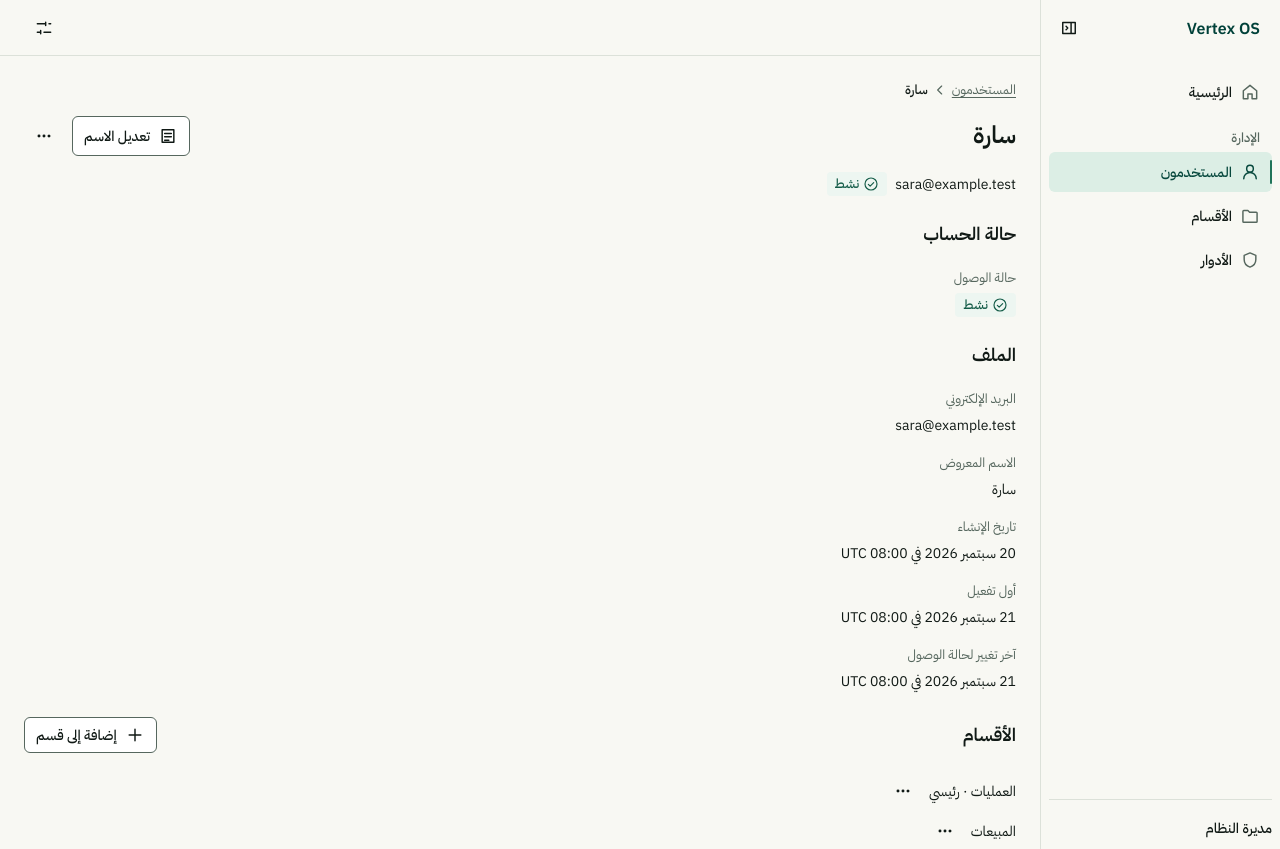
it: the user detail › explains a refusal in the dialog and keeps the reason; a rule refusal needs no reload
Click the button named "إجراءات المستخدم". click: [44, 136]
box: [24,116,64,156]
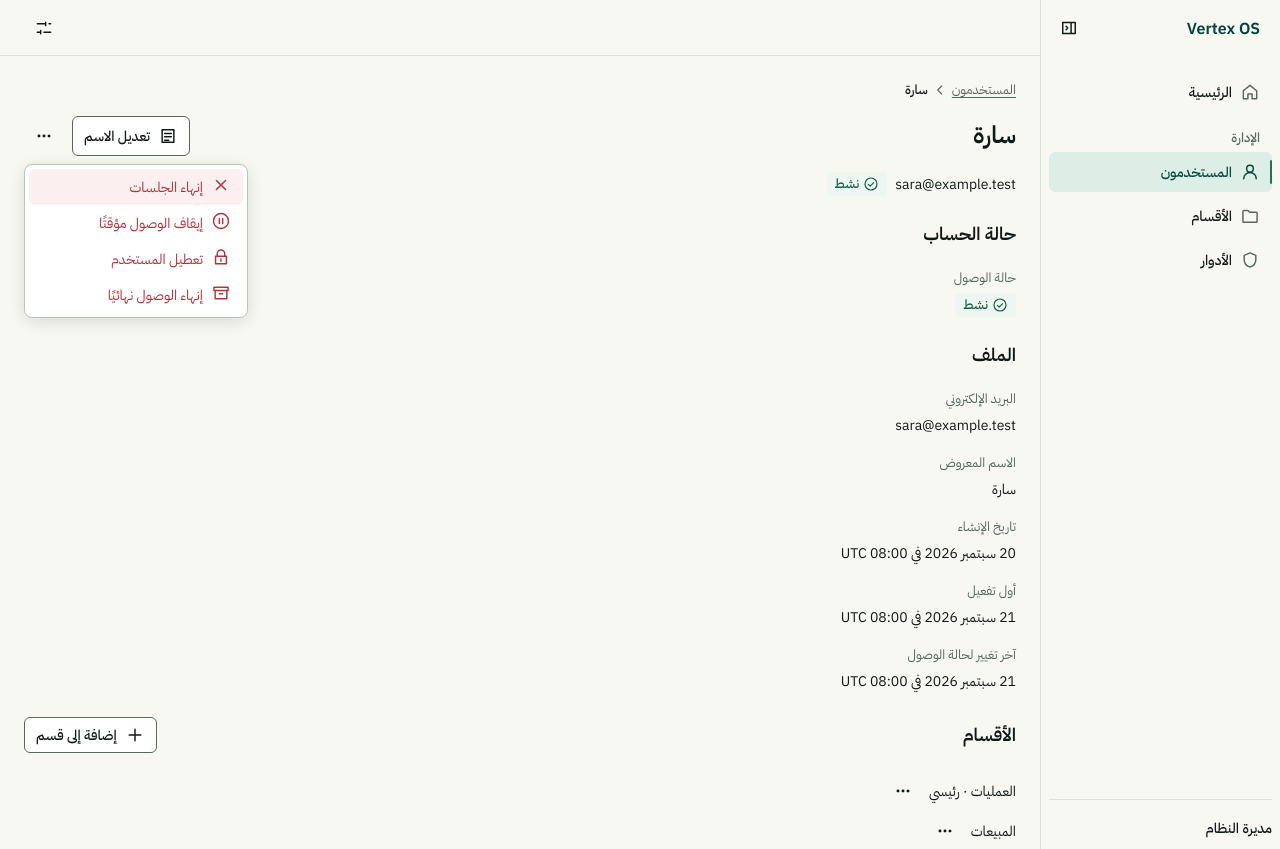
Click the menu item "تعطيل المستخدم". click: [171, 258]
box: [111,247,231,268]
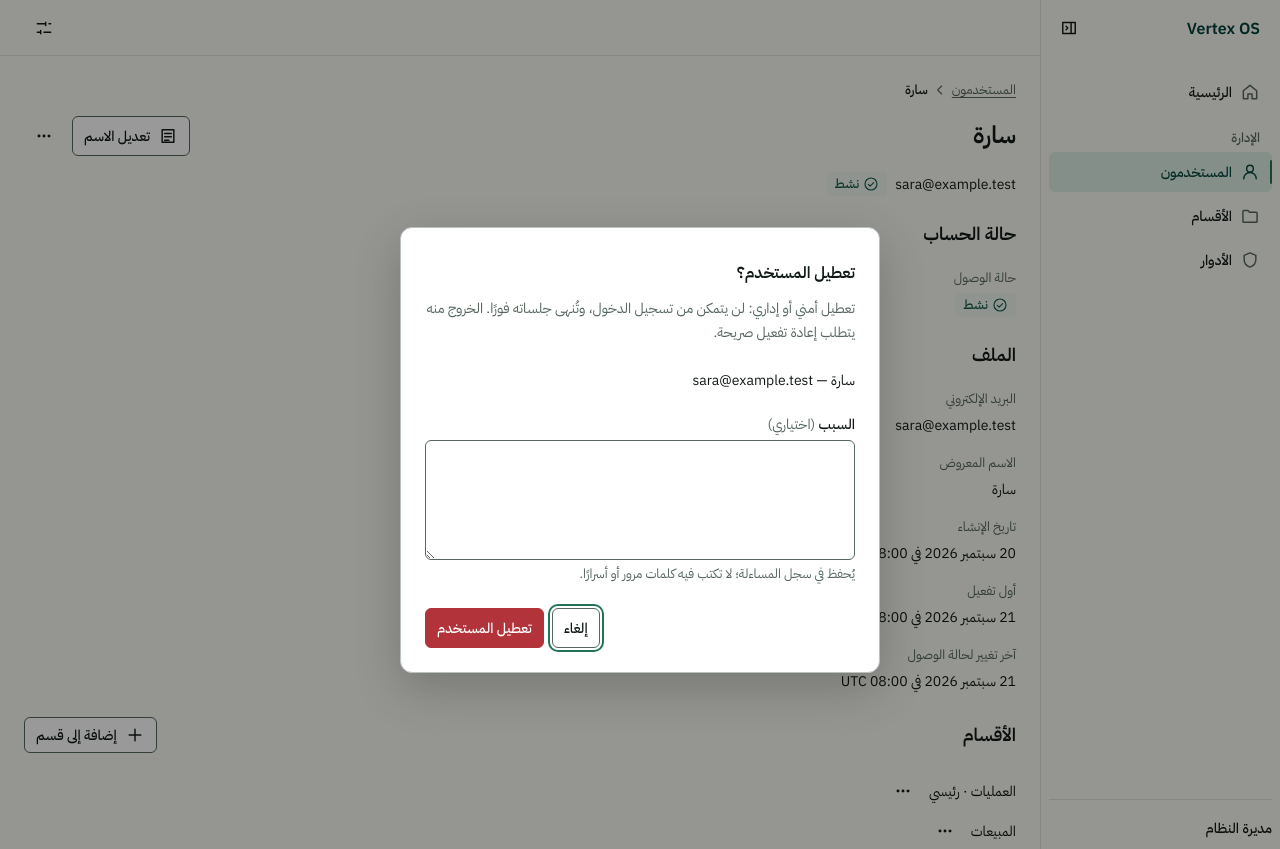
Type "تحقيق" into the text box labelled "السبب (اختياري)". click: [640, 500]
box: [425,440,855,560]
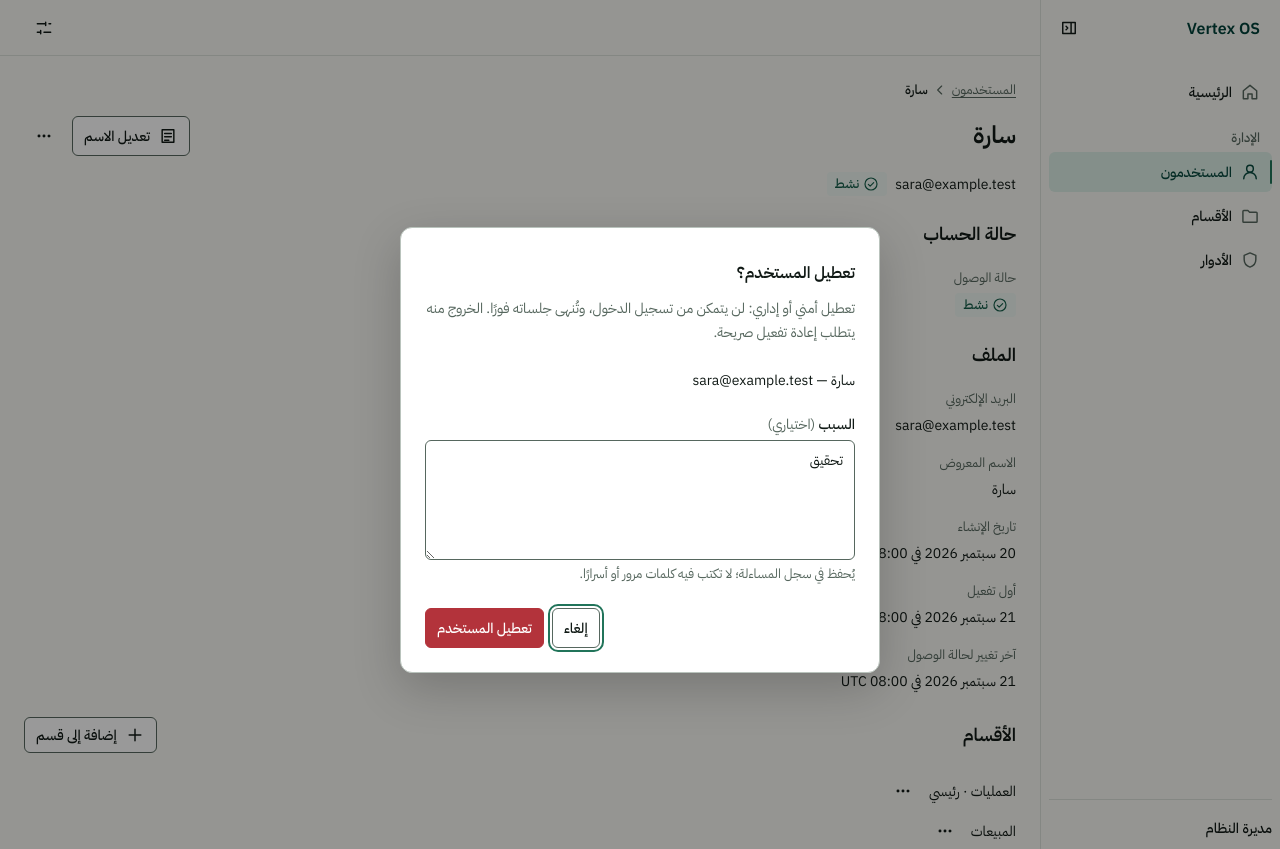
Click the button "تعطيل المستخدم". click: [484, 628]
box: [425,608,544,648]
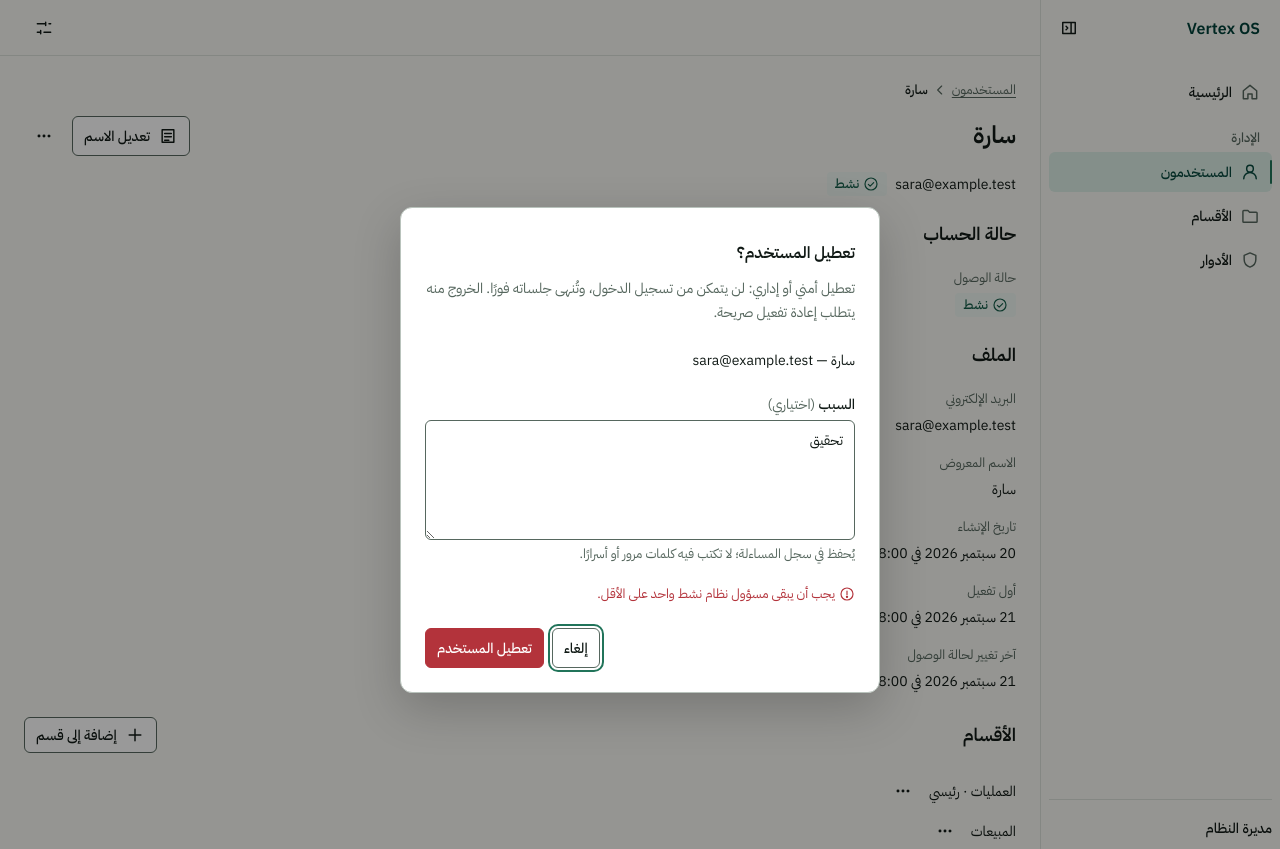
Expected: the text "يجب أن يبقى مسؤول نظام نشط واحد على الأقل." is shown, [597,584,835,604]
